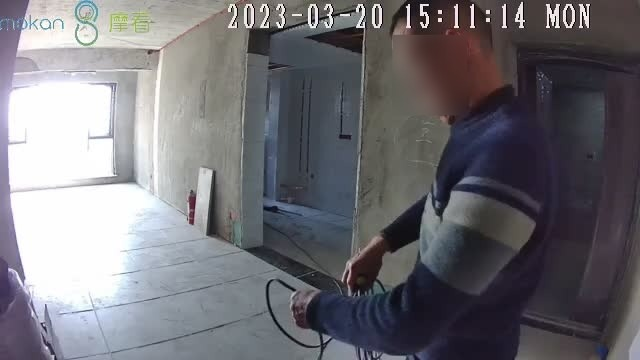people: (289, 2, 551, 360)
window: (10, 84, 115, 180)
